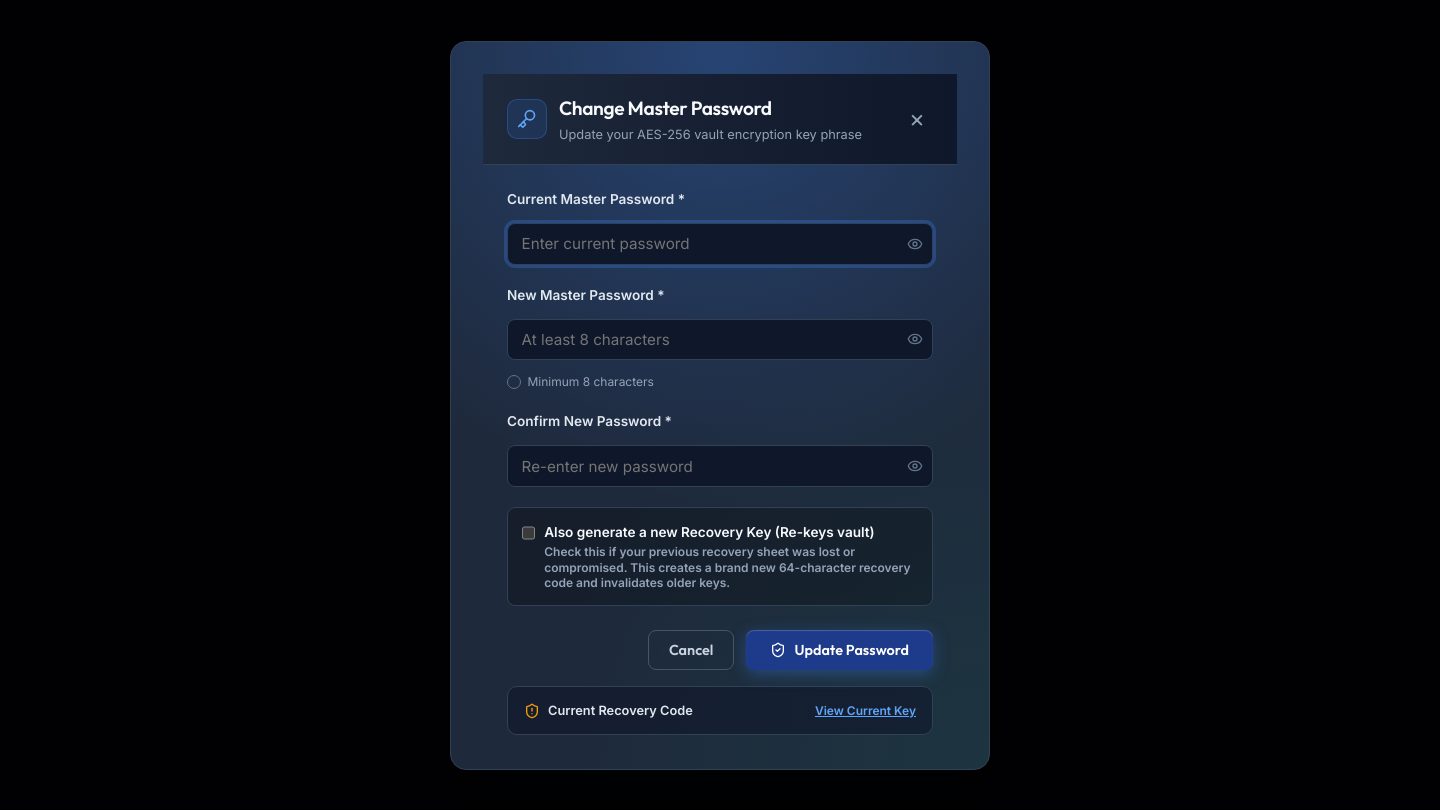
Test: ChangePasswordModal Component › displays error message if changePassword fails
Type "wrongOldPass" into the password field with placeholder "Enter current password". click: (720, 244)
box: [507,223,933,265]
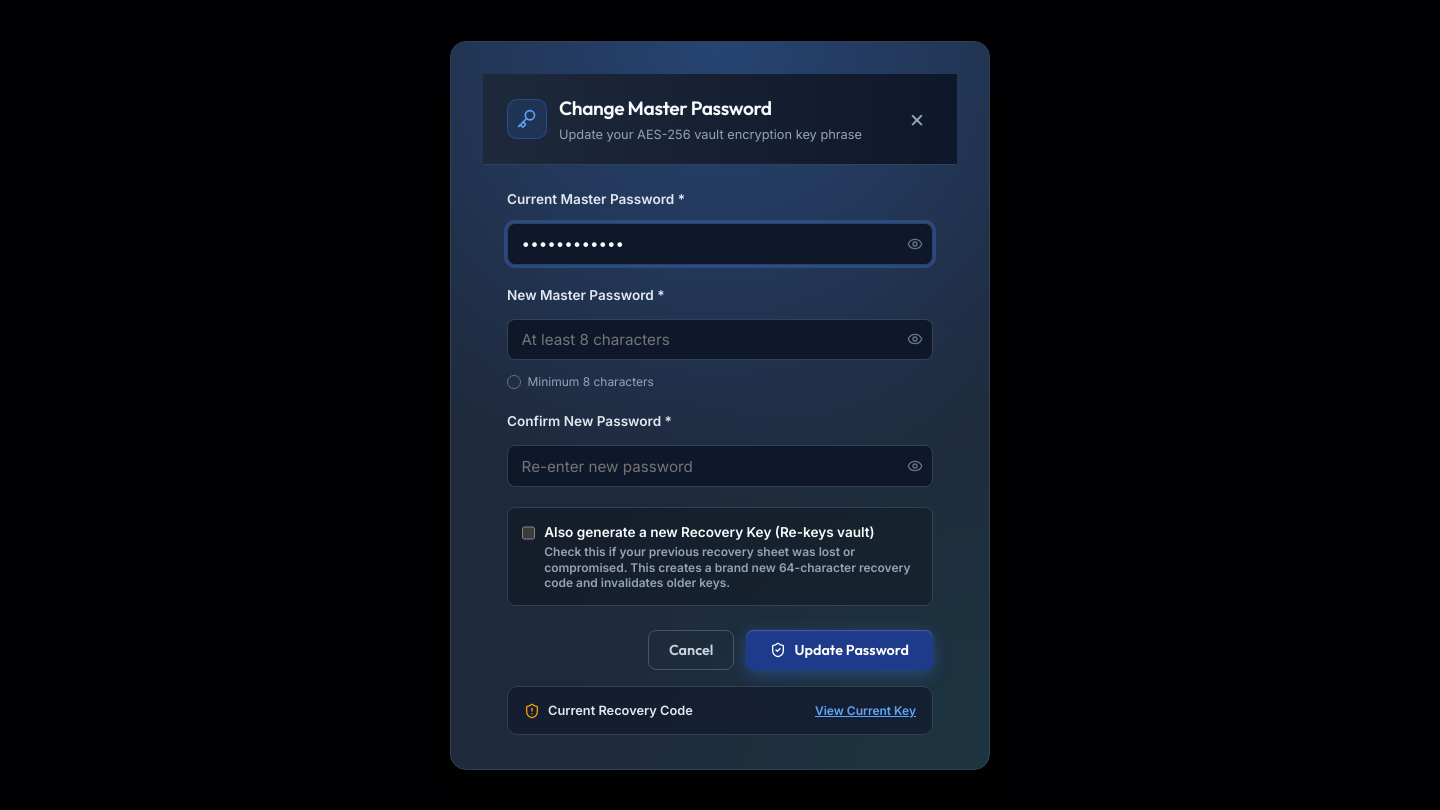
Type "newSecurePass456" into the password field with placeholder "At least 8 characters". click: (720, 340)
box: [507,319,933,360]
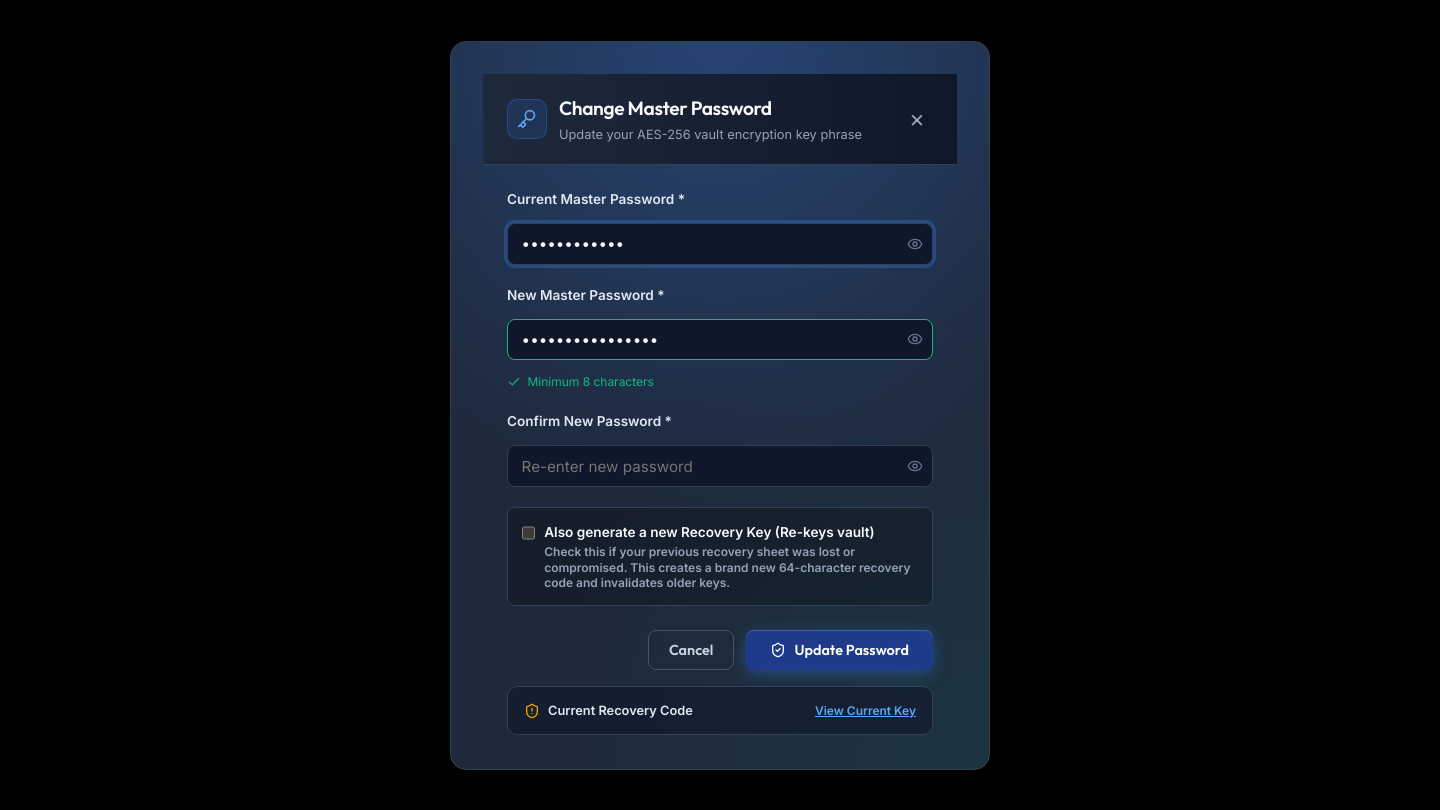
Type "newSecurePass456" into the password field with placeholder "Re-enter new password". click: (720, 466)
box: [507,445,933,487]
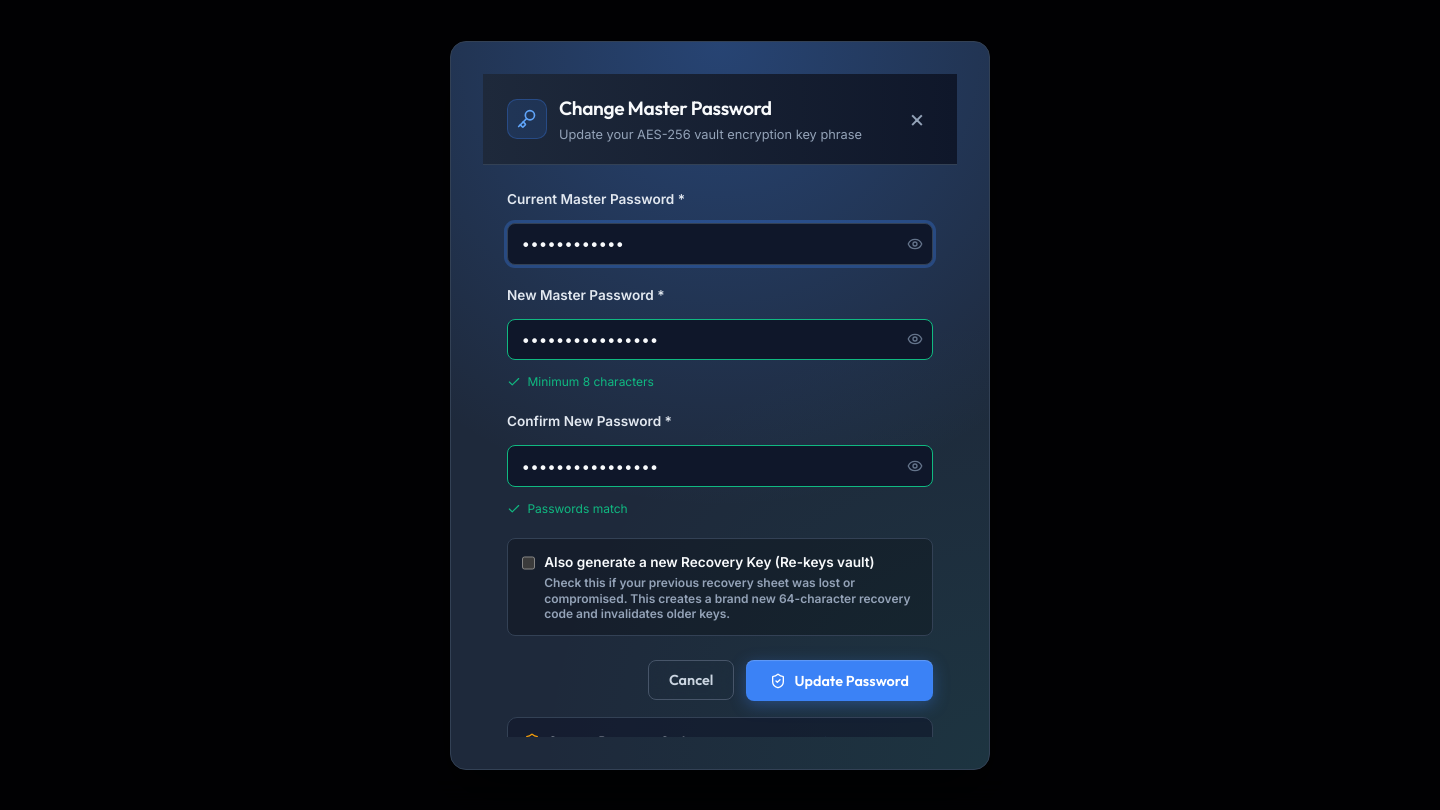
Click the button "Update Password". click: (840, 681)
box: [746,660,933,701]
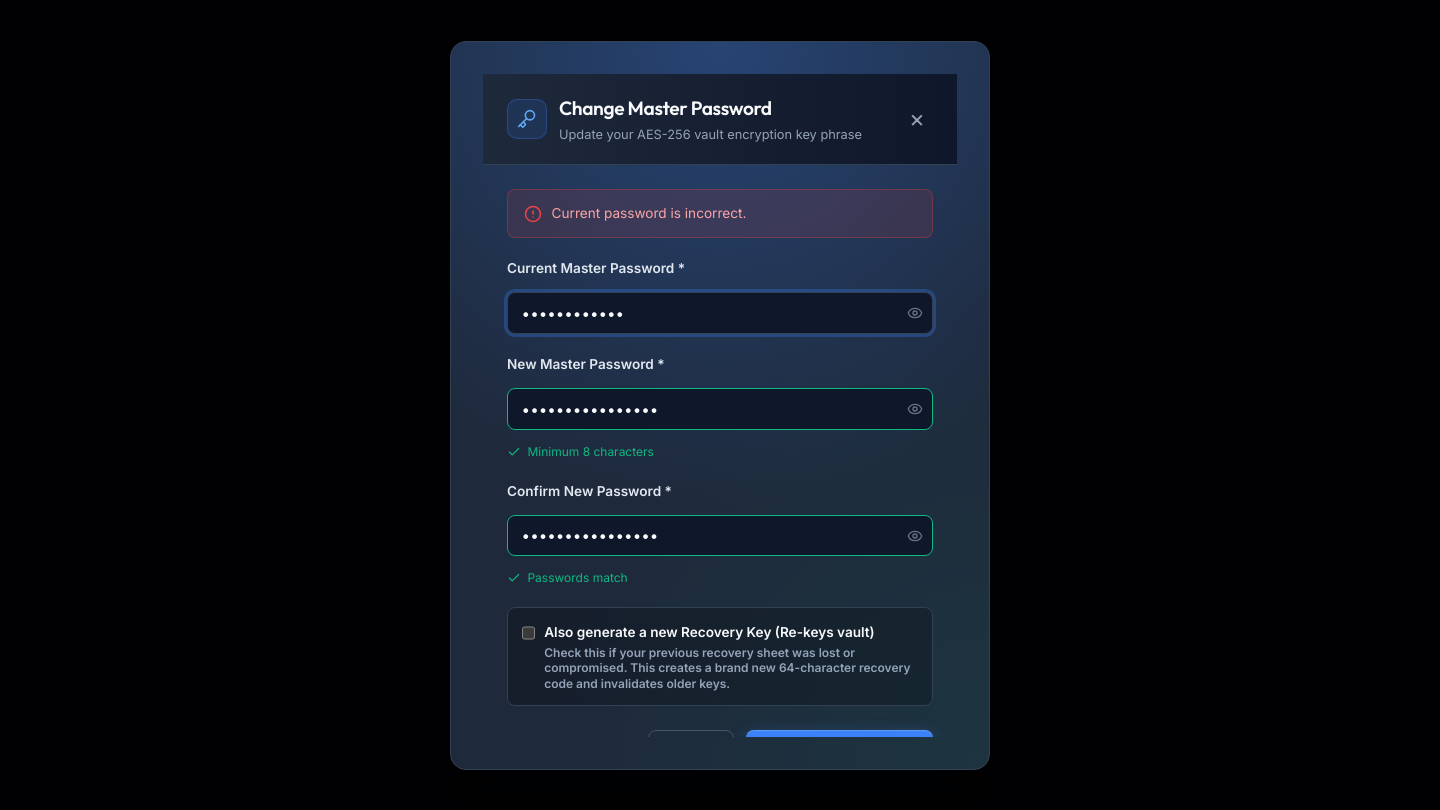
Expected: the text "Current password is incorrect." is shown, [552,204,746,224]
